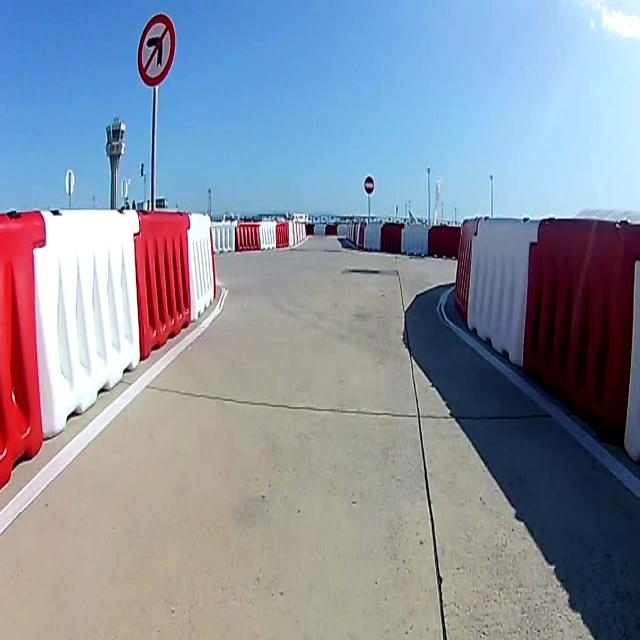girisyok: (364, 176, 374, 196)
soladonulmez: (138, 13, 176, 87)
